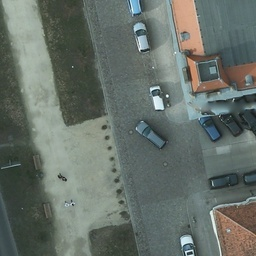car: (136, 120, 167, 148), (133, 21, 151, 56), (219, 111, 244, 136), (197, 115, 220, 141), (149, 82, 167, 113), (206, 172, 240, 188), (124, 0, 144, 14)
